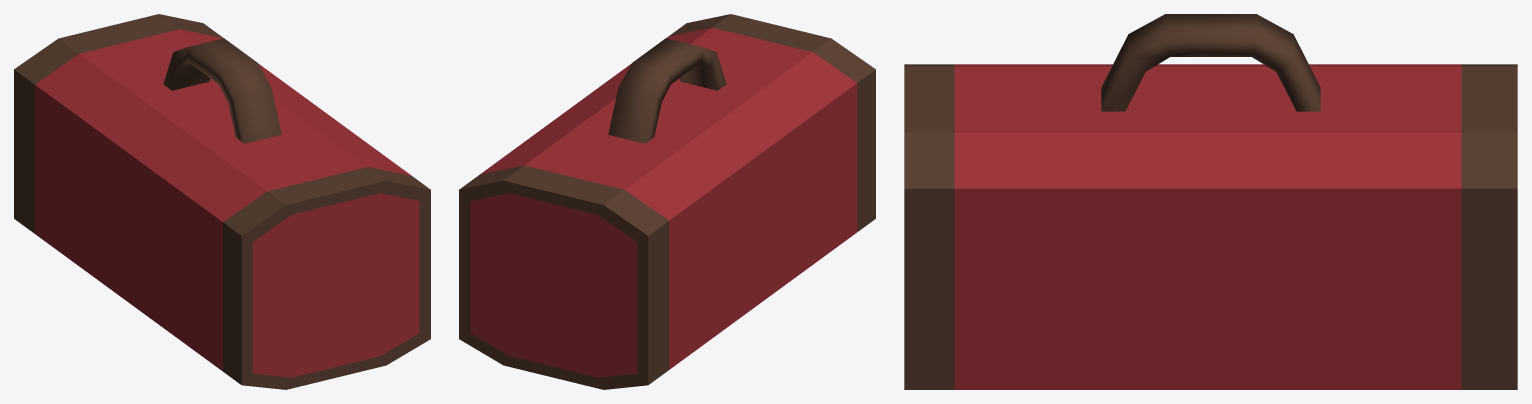
File: CarryCase_01.fbx
The picture shows the model from 3 angles, left to right: view 1: azimuth 30°, elevation 25°; view 2: azimuth 150°, elevation 25°; view 3: azimuth 270°, elevation 25°; orthographic projection. The views are drawn at different scales.
Parts seen in each view (by area): view 1: CarryCase_01; view 2: CarryCase_01; view 3: CarryCase_01.
Part boxes in pixels (x1=…): CarryCase_01: x1=14, y1=14, x2=430, y2=389; CarryCase_01: x1=459, y1=14, x2=875, y2=389; CarryCase_01: x1=904, y1=14, x2=1517, y2=389.
Size of the model in its own units: 0.2362 by 0.2853 by 0.4919.
